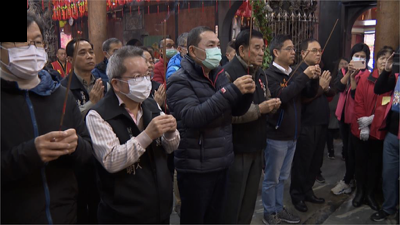with_mask: (3, 29, 49, 79), (121, 68, 152, 103), (195, 39, 222, 70), (164, 40, 178, 60), (352, 52, 367, 68)
without_mask: (75, 47, 97, 69), (249, 42, 266, 67), (305, 46, 322, 65), (281, 44, 296, 63), (379, 54, 392, 71), (58, 51, 68, 62)
